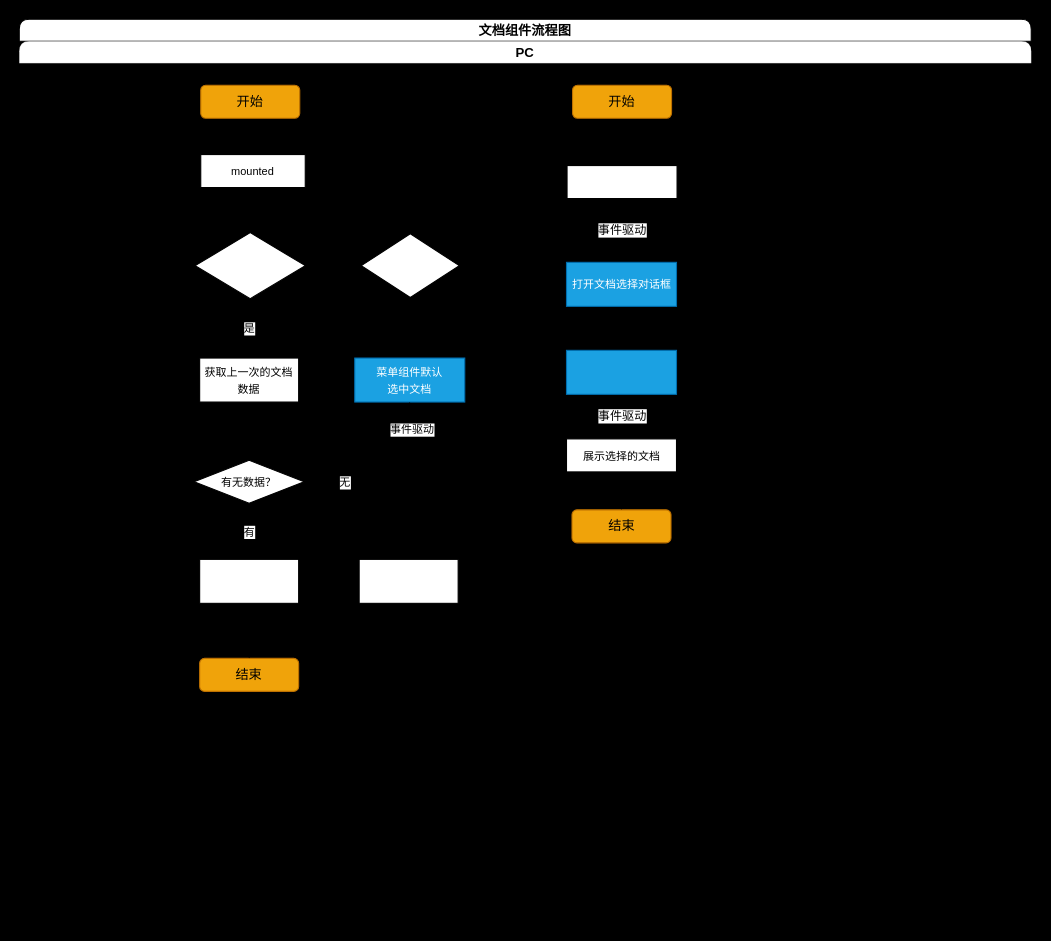
Some shapes in this 1051 by 941 pixel diagram are drawn without their labels. Here are the shapes that lost their labels. From the top down, the centre of each, then its label:
At pixel 621 181: "选中文档".
At pixel 249 265: "是否在直播中？".
At pixel 409 265: "是否是主持人？".
At pixel 620 371: "演示文档".
At pixel 249 580: "展示激活的文档或白板".
At pixel 408 580: "展示空文档占位图".
